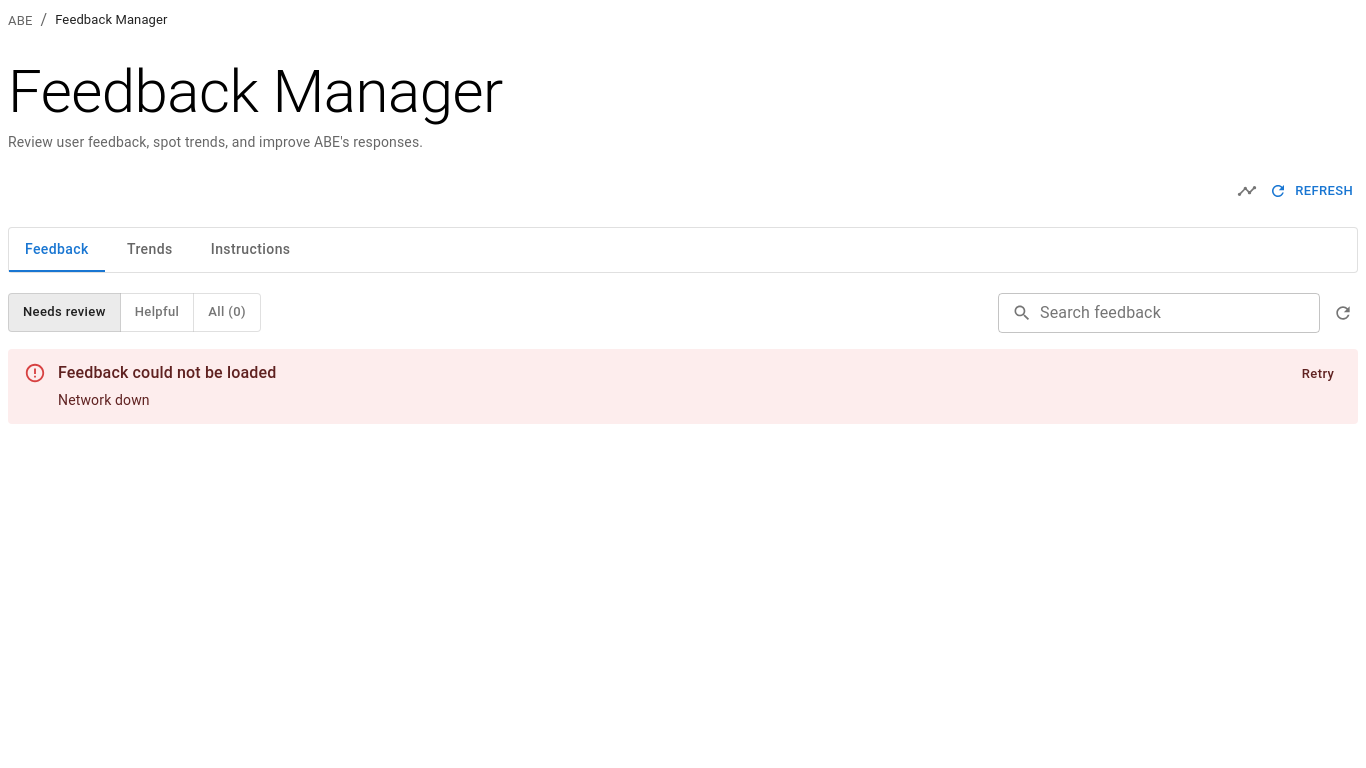
Test: FeedbackOpsPage load errors › shows an error with Retry instead of the empty state when feedback fails to load
The width and height of the screenshot is (1366, 768).
Check: the text "Feedback could not be loaded" is shown, box 58,361 -> 276,385
Check: the text "Network down" is shown, box 58,392 -> 150,408
Click the button "Retry". click: (1318, 374)
box: 1286,359 -> 1350,390
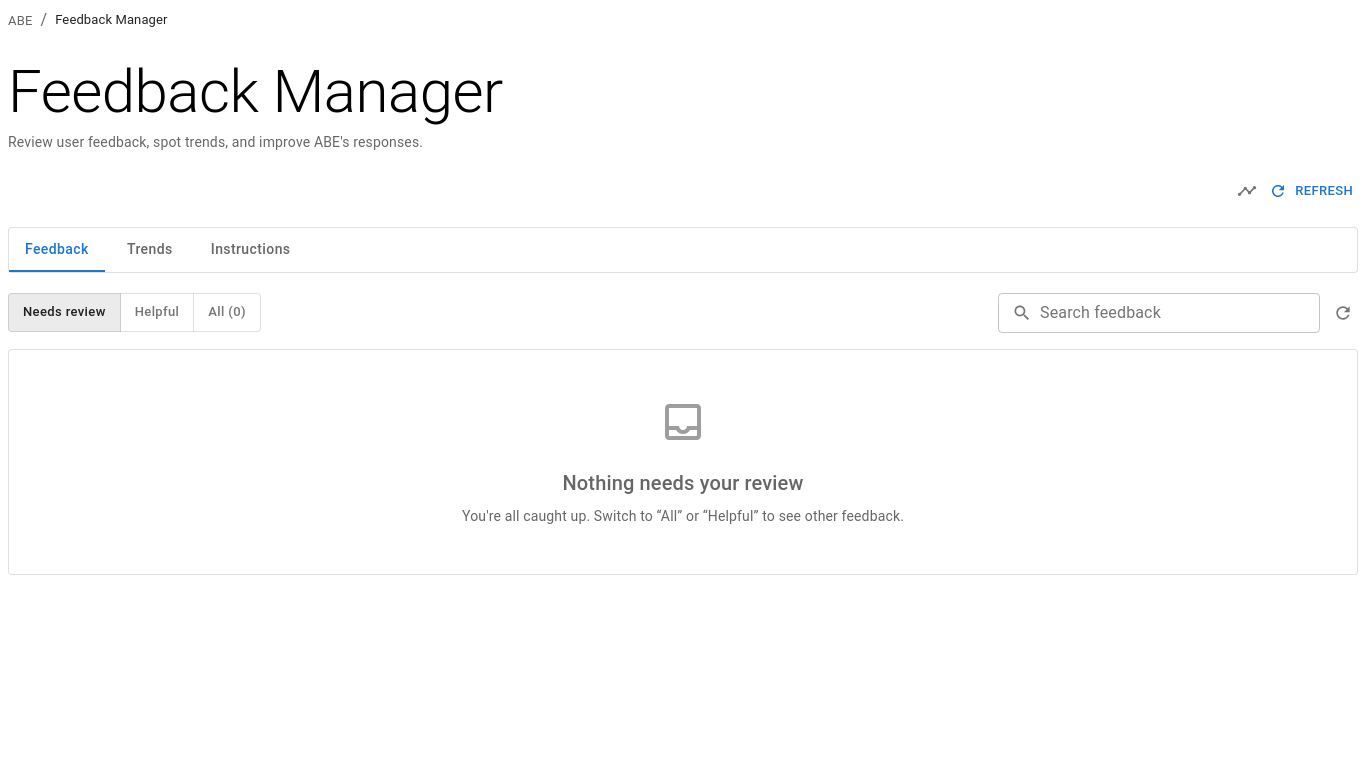
Check: the heading "Nothing needs your review" is shown, box 562,471 -> 804,495
Check: the text "Feedback could not be loaded" is gone
